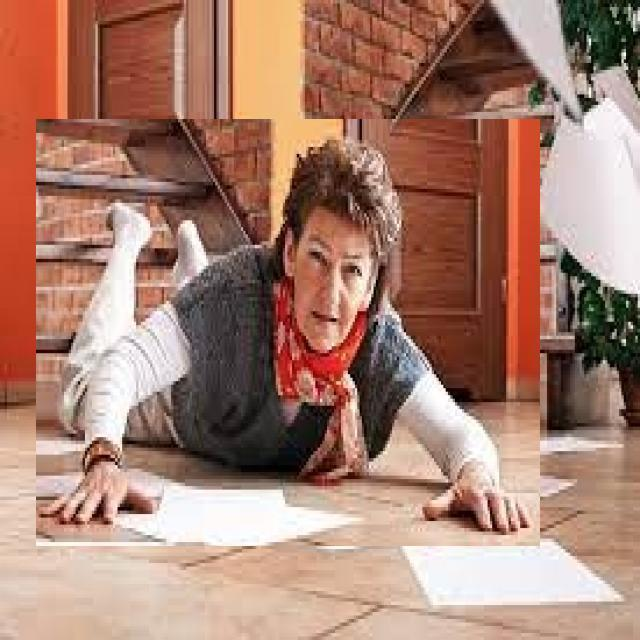Fall: (34, 129, 556, 588)
